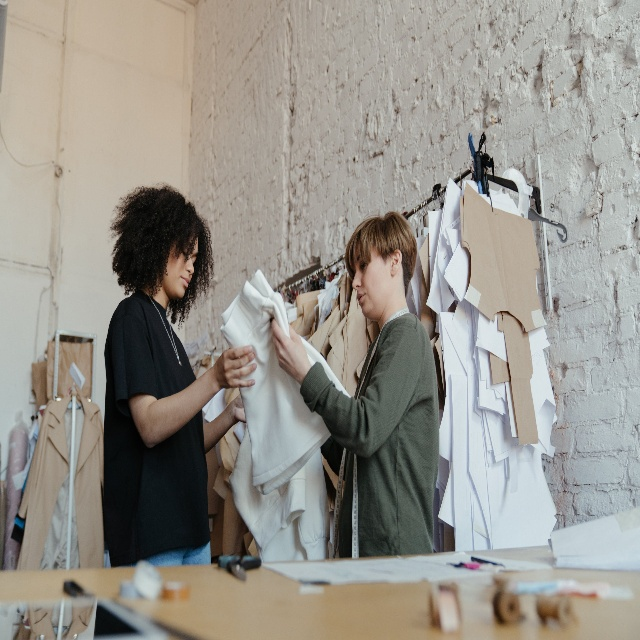Sin_guantes: (269, 315, 310, 383), (215, 345, 256, 390), (233, 394, 246, 422)
